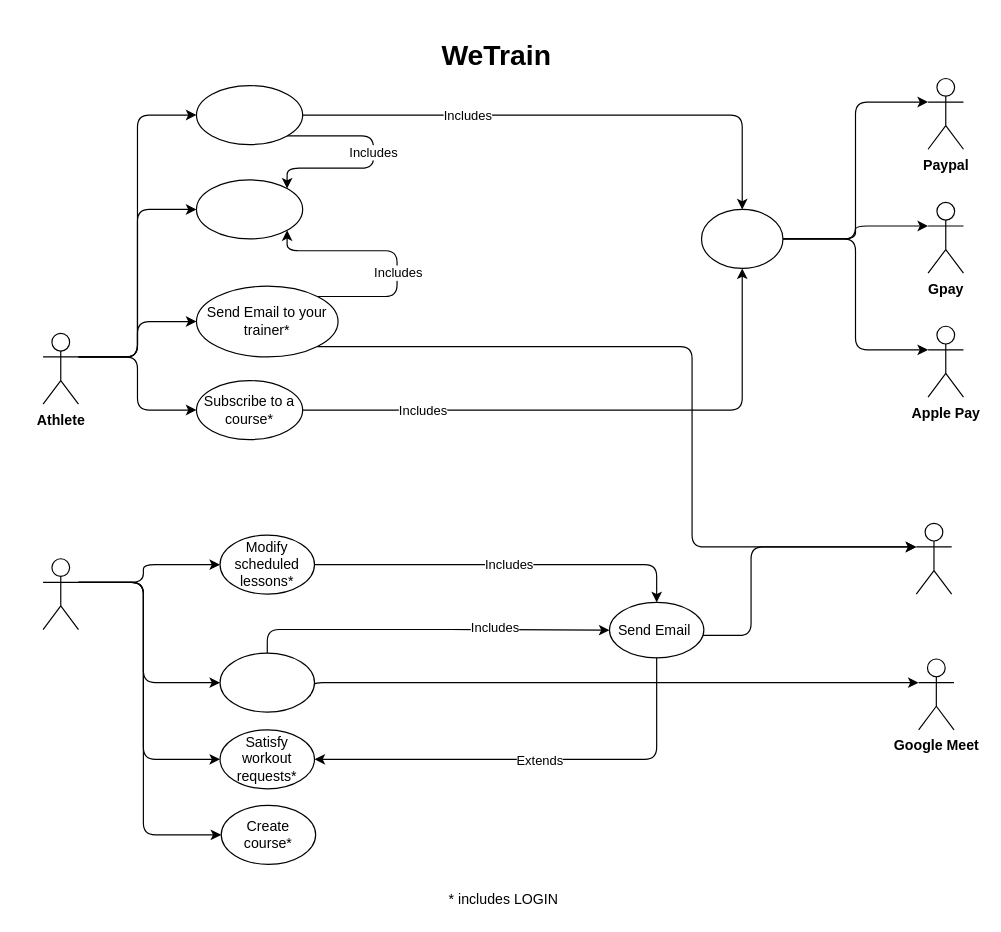
This 1001x932 diagram has some shape labels left out. Here are the shapes that lost their labels. From the top down, the centre of each, then its label:
At pixel 249 114: "Request workout plan*".
At pixel 249 209: "Subscribe to a Trainer*".
At pixel 741 238: "Pay".
At pixel 933 558: "Email System".
At pixel 60 594: "Pers.Trainer".
At pixel 266 682: "Start lesson*".
